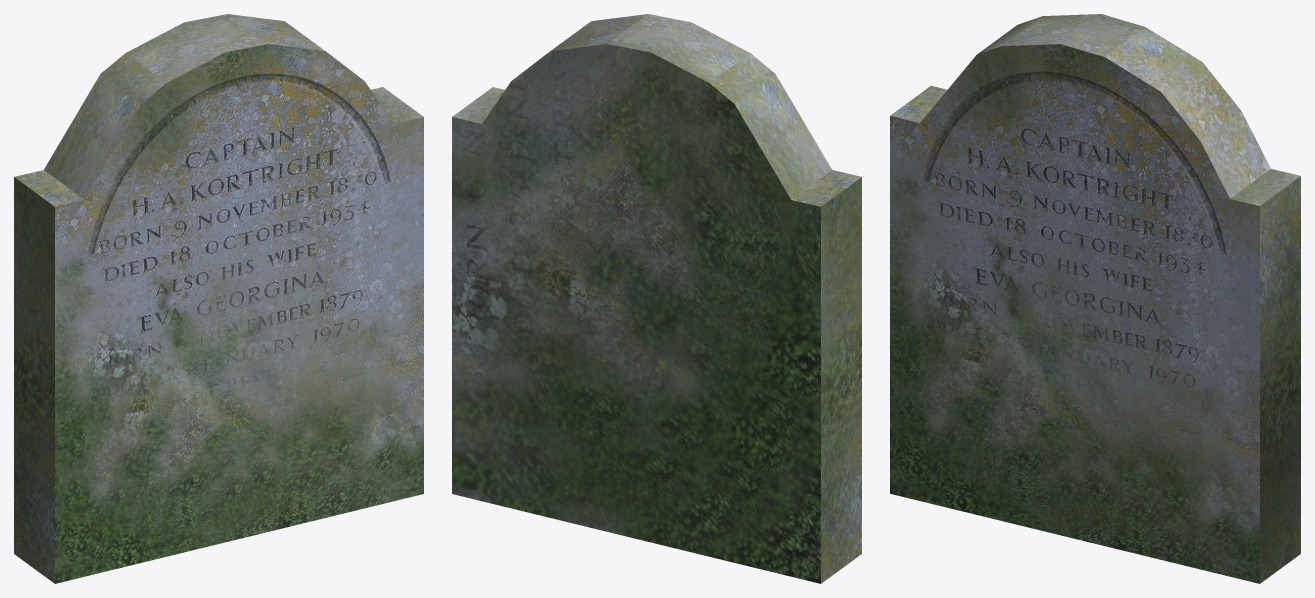
Rendered from grave.FBX.
The picture shows the model from 3 angles, left to right: view 1: azimuth 30°, elevation 25°; view 2: azimuth 150°, elevation 25°; view 3: azimuth 330°, elevation 25°; orthographic projection.
Parts seen in each view (by area): view 1: Line02; view 2: Line02; view 3: Line02.
Part boxes in pixels (box(x1,y1,x2,y2)): Line02: box(14, 14, 423, 583); Line02: box(452, 14, 861, 583); Line02: box(890, 14, 1300, 583).
Bounding box in the file's own units: 22.26 × 4.28 × 28.26.
1 material, 1 textured.
